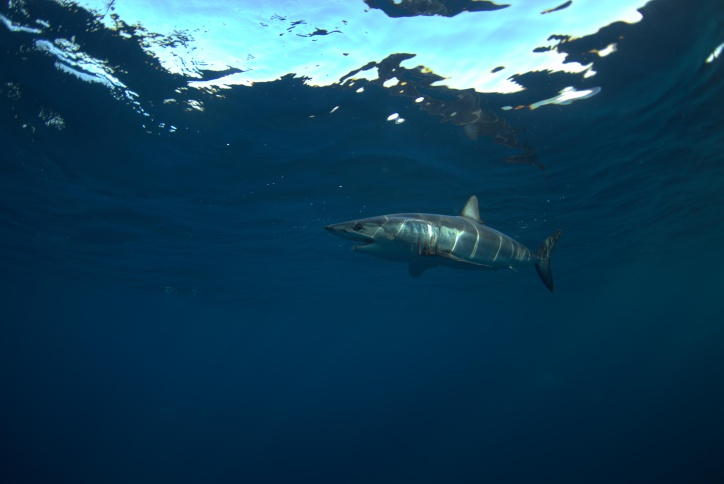Mako: (301, 188, 578, 309)
